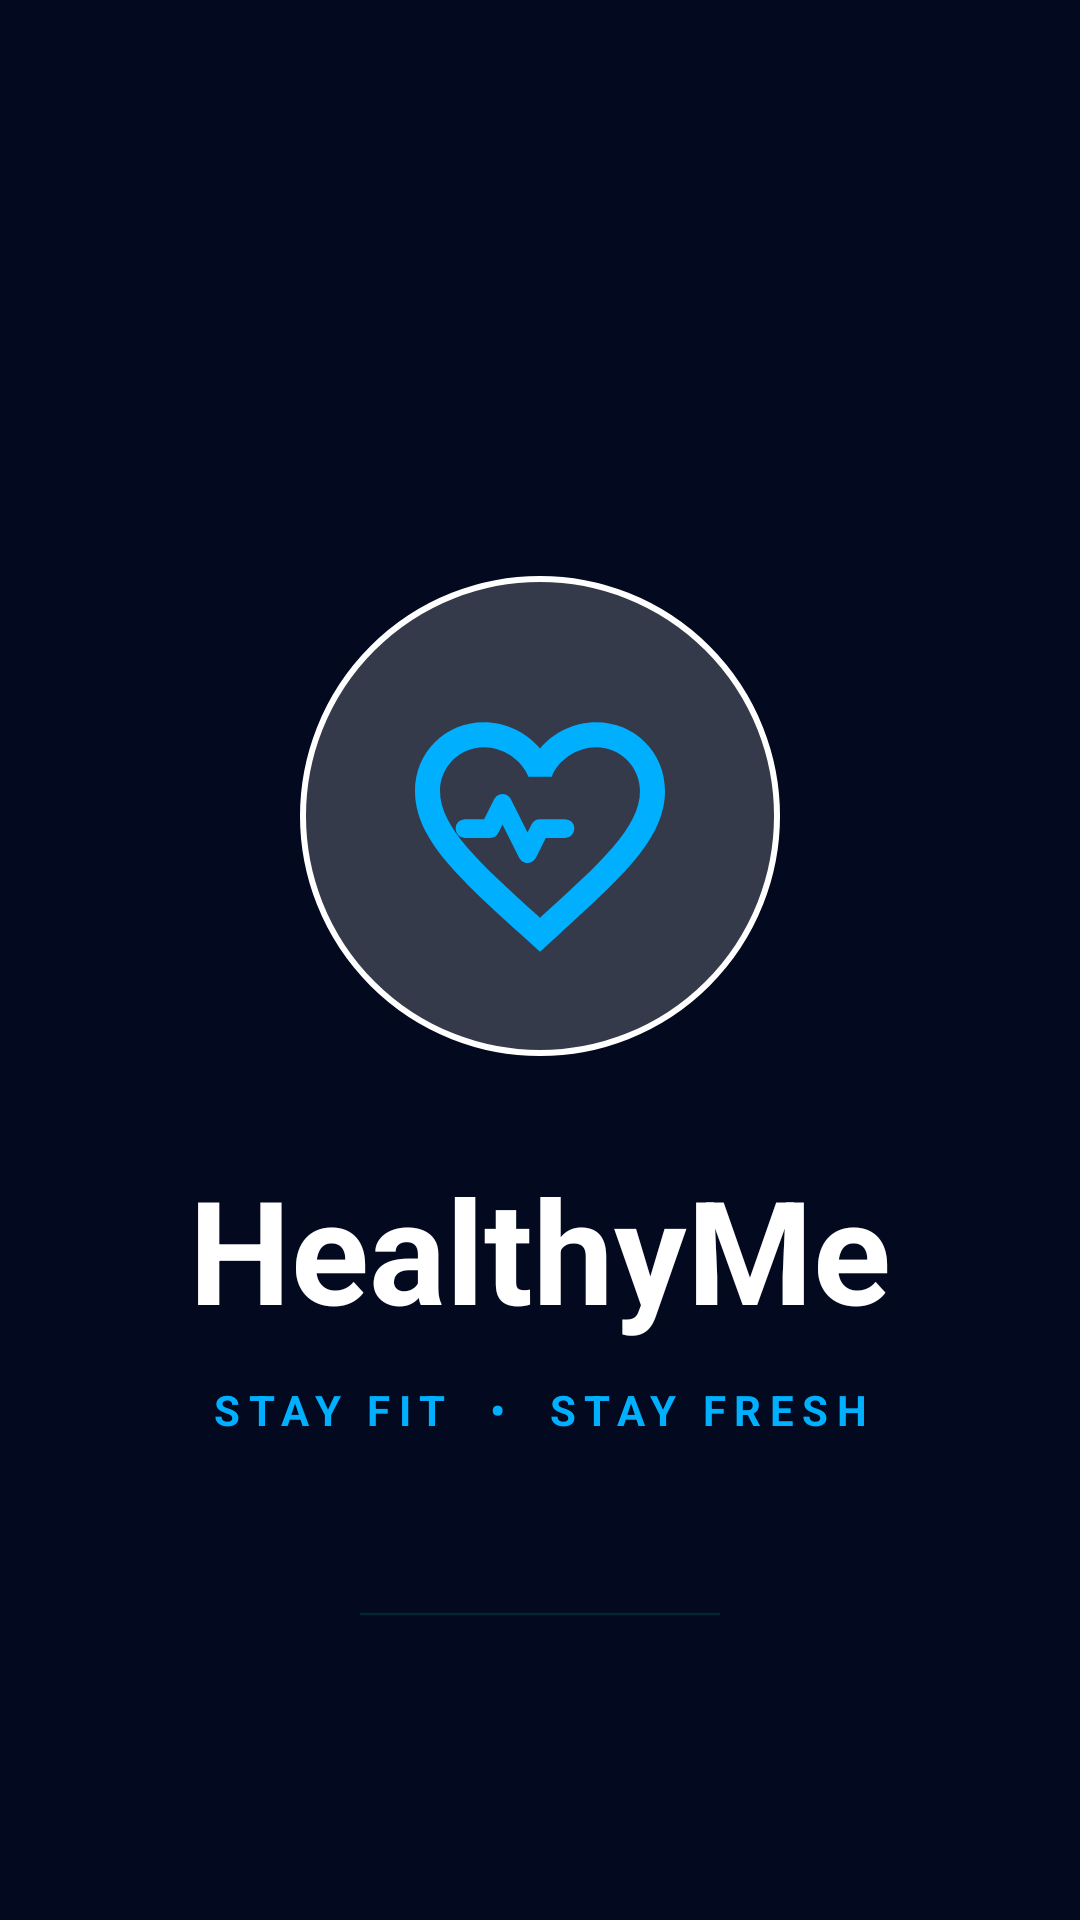

Where to tap for icons on this 1080*1920 app screen, as (x,y):
heart pulse: (540,837)
